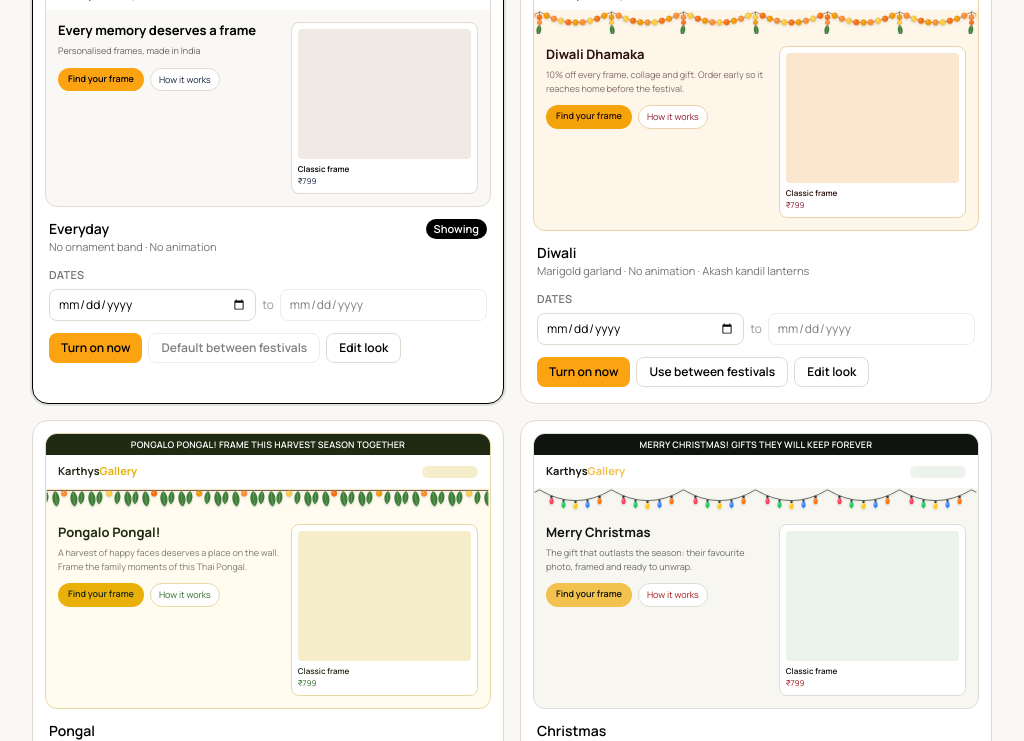
Test: admin festival themes › turns a festival on now and saves it
(page scrolled)
Step 1. Click the button "Turn on now" below "· Akash kandil lanterns" → (584, 372), box [537,357,630,387]
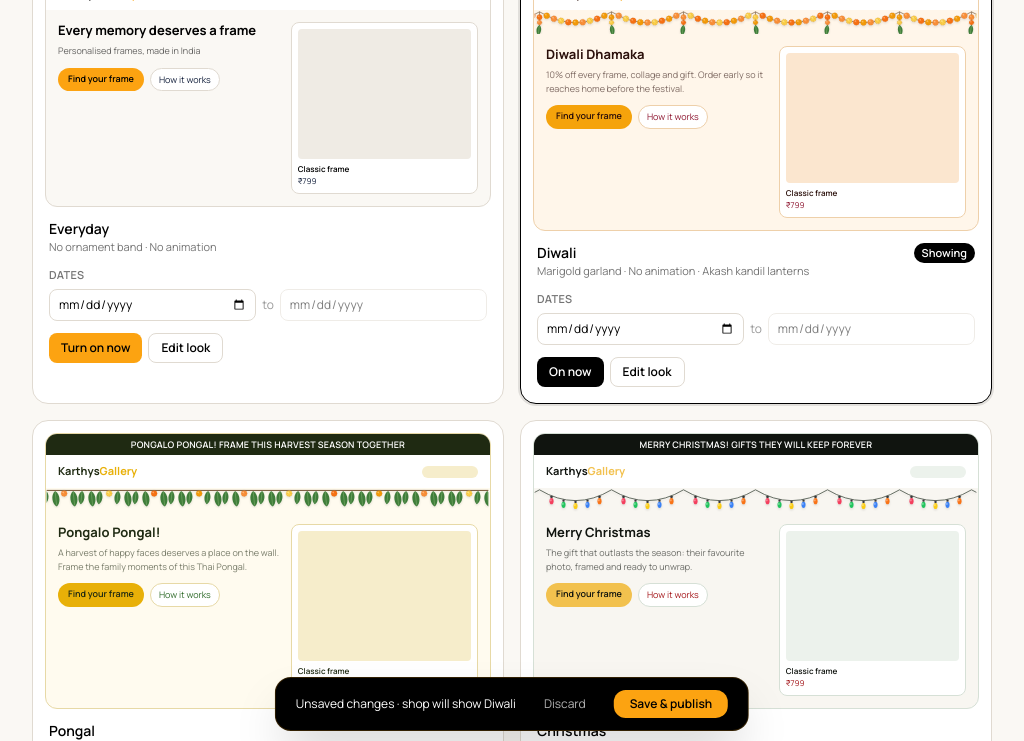
Now the text "Unsaved changes · shop will show Diwali" is shown, box [296,696,516,712]
Step 2. Click the button "Save & publish" → (671, 704), box [614,690,728,718]
(page scrolled)
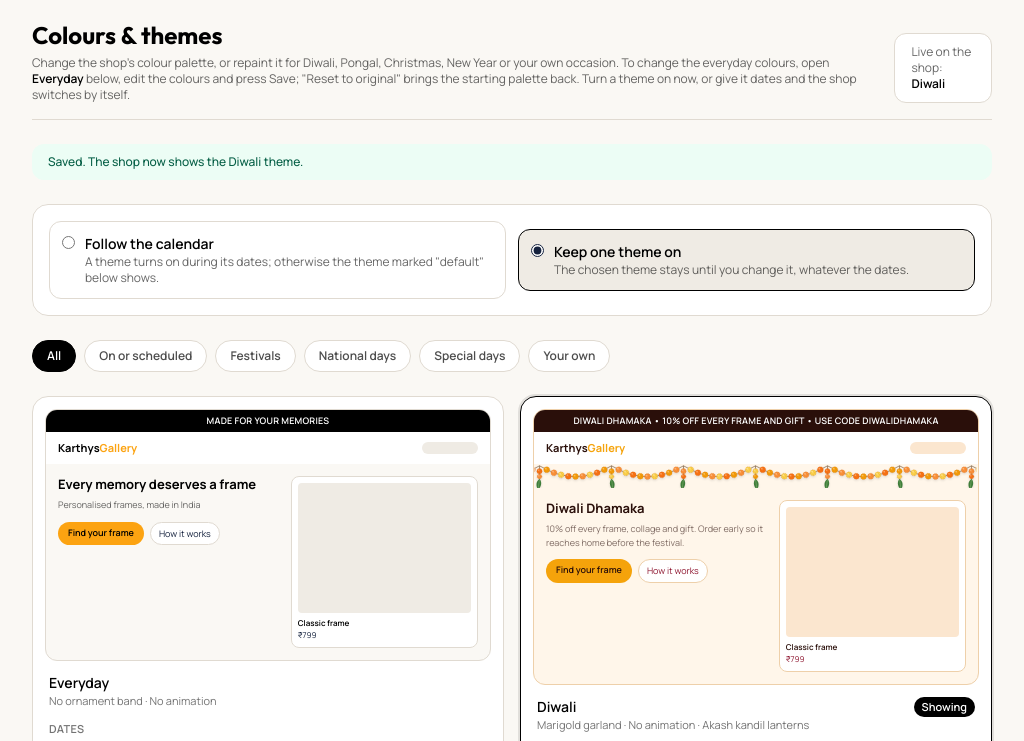
Now the text "Saved. The shop now shows the Diwali theme." is shown, box [32,144,992,180]
